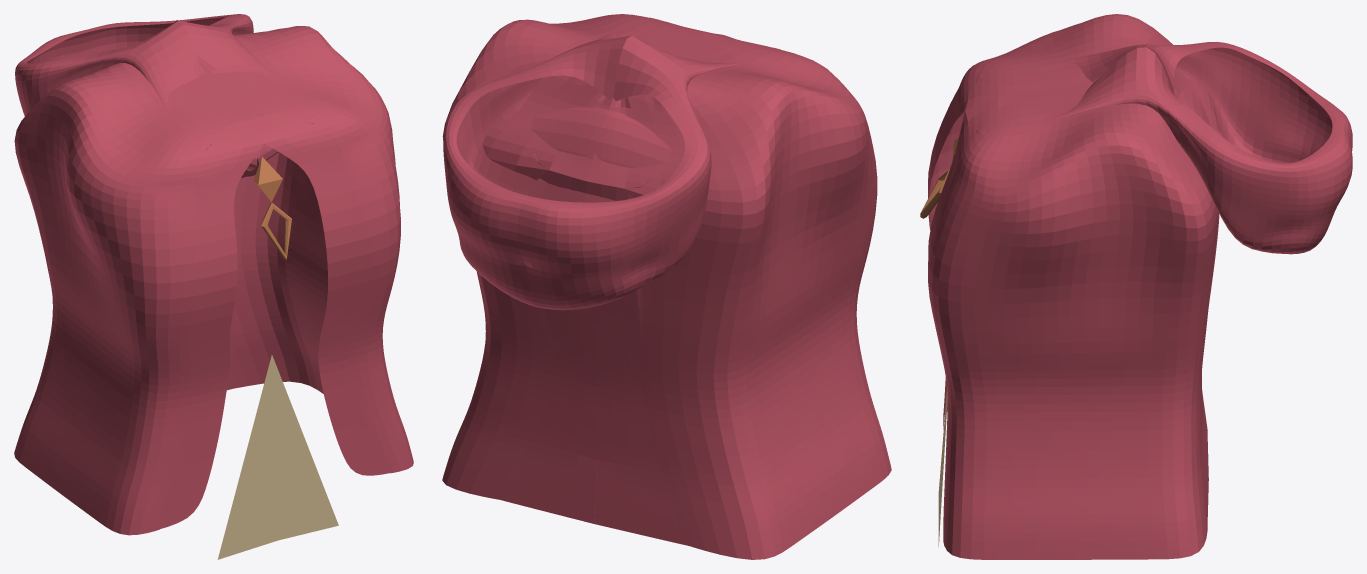
File: Top 1.fbx
3 views of the same model, side by side, from view 1: azimuth 30°, elevation 25°; view 2: azimuth 150°, elevation 25°; view 3: azimuth 270°, elevation 25° (orthographic). The views are drawn at different scales.
Parts seen in each view (by area): view 1: Top 1; view 2: Top 1; view 3: Top 1.
Boxes of the visible parts, <box> form: Top 1: <box>14,14,413,559</box>; Top 1: <box>442,14,891,559</box>; Top 1: <box>920,14,1352,559</box>.
Size of the model in its own units: 70.89 by 99.41 by 81.68.
